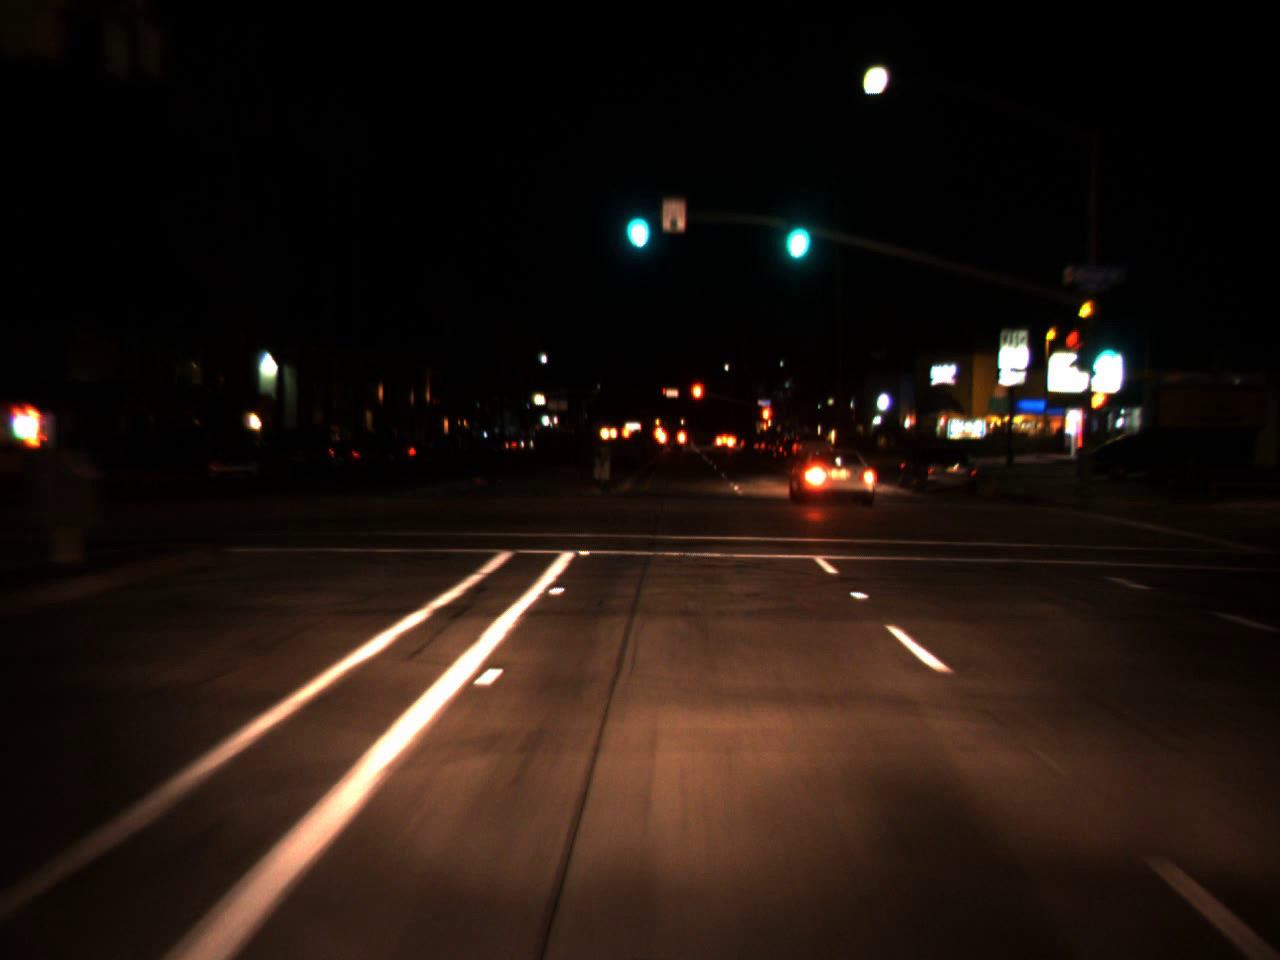go: (775, 188, 816, 269), (617, 177, 654, 261), (1086, 330, 1122, 378)
stop: (689, 380, 705, 417), (759, 402, 772, 439)
